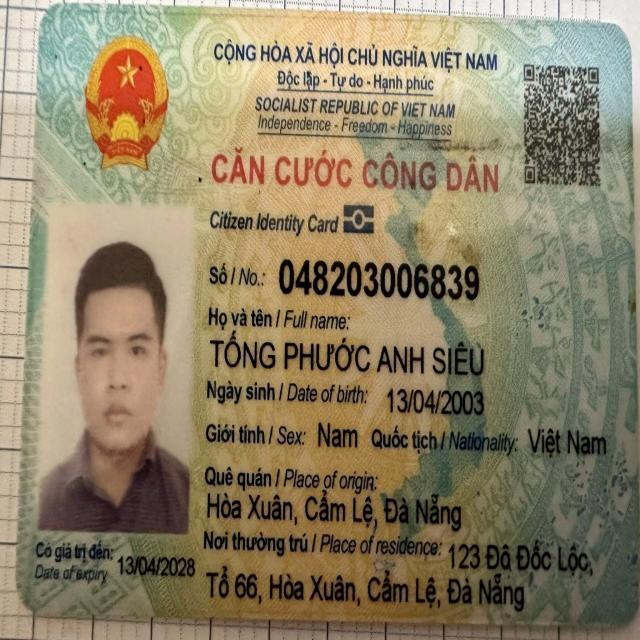current_place: (203, 562, 527, 617), (444, 536, 595, 579)
dob: (385, 383, 486, 420)
expire_date: (116, 549, 197, 582)
gender: (315, 418, 360, 452)
id: (276, 253, 482, 306)
name: (207, 327, 487, 380)
nationality: (526, 424, 608, 461)
origin_place: (204, 488, 463, 535)
qr: (520, 51, 608, 192)
